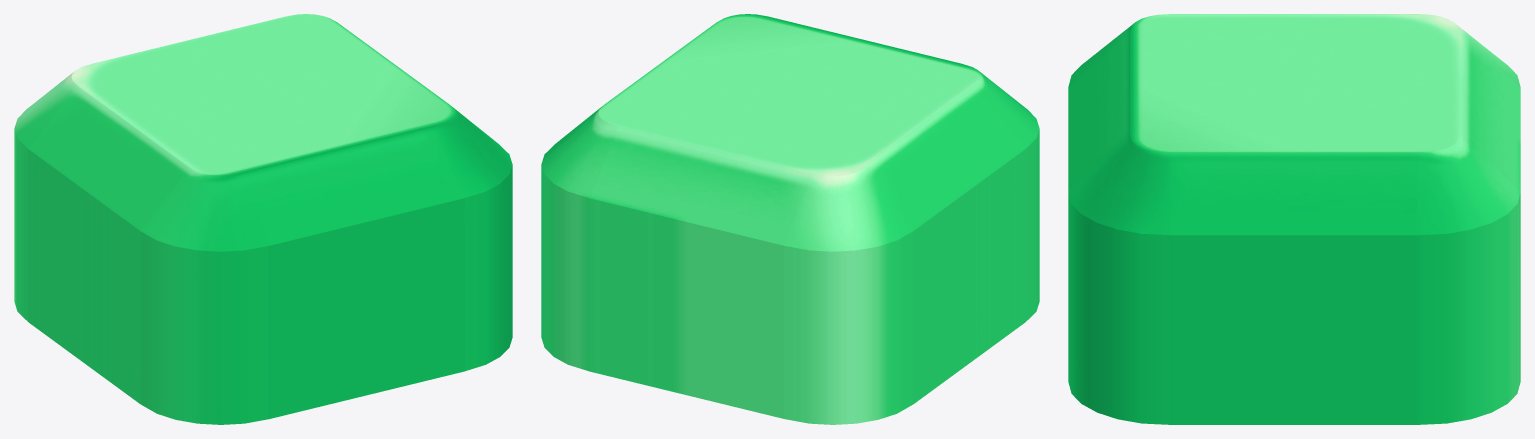
File: Block_1x1_ForestGreen.glb
3 views of the same model, side by side, from view 1: azimuth 30°, elevation 25°; view 2: azimuth 150°, elevation 25°; view 3: azimuth 270°, elevation 25° (orthographic). The views are drawn at different scales.
Visible parts, largest first — view 1: Edge_Bottom, FrontFace, Edge_Left, Corner_BottomLeft, Corner_BottomRight, Corner_TopLeft; view 2: Edge_Top, FrontFace, Edge_Left, Corner_TopLeft, Corner_TopRight, Corner_BottomLeft; view 3: Edge_Right, FrontFace, Corner_TopRight, Corner_BottomRight, Edge_Top, Edge_Bottom, Corner_TopLeft, Corner_BottomLeft.
Part boxes in pixels (bbox=[...]): Edge_Bottom: bbox=[241, 126, 463, 418]; FrontFace: bbox=[71, 14, 455, 176]; Edge_Left: bbox=[28, 86, 189, 403]; Corner_BottomLeft: bbox=[140, 168, 269, 424]; Corner_BottomRight: bbox=[436, 106, 512, 371]; Corner_TopLeft: bbox=[14, 71, 77, 321]; Edge_Top: bbox=[590, 126, 812, 418]; FrontFace: bbox=[598, 14, 982, 176]; Edge_Left: bbox=[864, 86, 1025, 403]; Corner_TopLeft: bbox=[784, 168, 913, 424]; Corner_TopRight: bbox=[541, 106, 617, 371]; Corner_BottomLeft: bbox=[976, 71, 1039, 321]; Edge_Right: bbox=[1171, 153, 1417, 424]; FrontFace: bbox=[1130, 14, 1458, 152]; Corner_TopRight: bbox=[1417, 135, 1520, 424]; Corner_BottomRight: bbox=[1068, 135, 1171, 424]; Edge_Top: bbox=[1458, 32, 1520, 190]; Edge_Bottom: bbox=[1068, 32, 1130, 190]; Corner_TopLeft: bbox=[1453, 22, 1520, 86]; Corner_BottomLeft: bbox=[1068, 22, 1135, 86].
Bounding box in the file's own units: 1 × 0.5995 × 1.
1 material, 1 textured.
